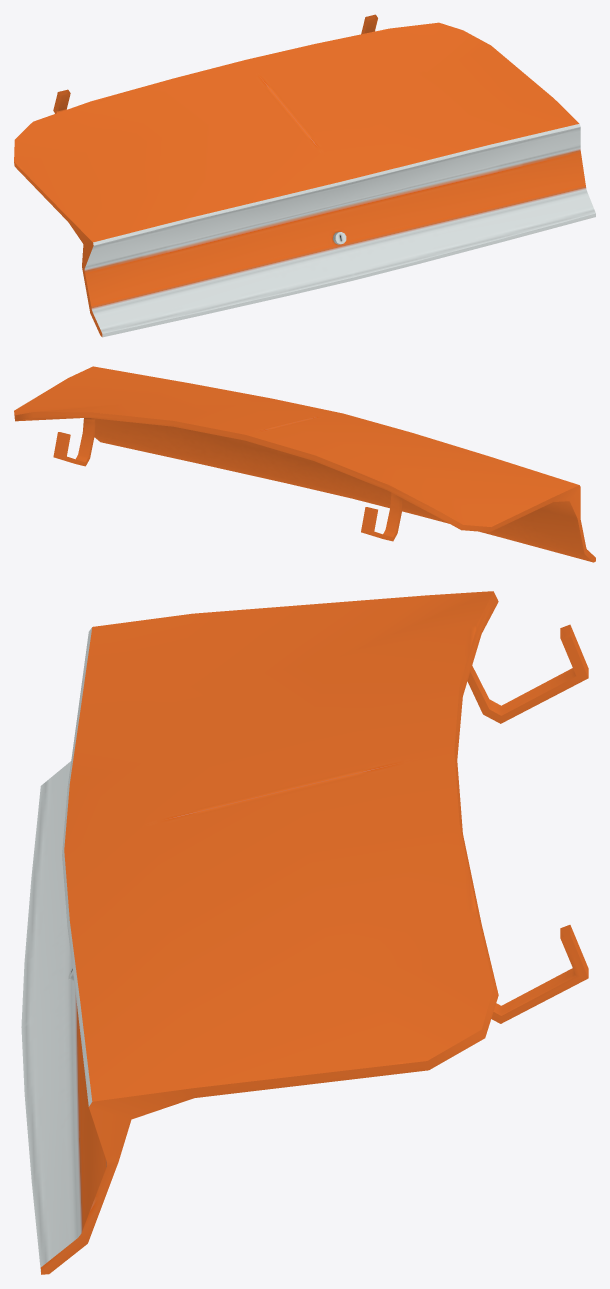
The model's file is car_trunk.glb.
3 views of the same model, one above another, from view 1: azimuth 30°, elevation 25°; view 2: azimuth 150°, elevation 25°; view 3: azimuth 270°, elevation 25° (orthographic). The views are drawn at different scales.
Parts seen in each view (by area): view 1: trunk_car_0; view 2: trunk_car_0; view 3: trunk_car_0.
Part boxes in pixels (x1,y1,x2,y2): trunk_car_0: (14, 14, 595, 337); trunk_car_0: (14, 366, 595, 562); trunk_car_0: (21, 591, 588, 1274).
Size of the model in its own units: 1.28 by 0.3486 by 0.6316.
1 material, 1 textured.
